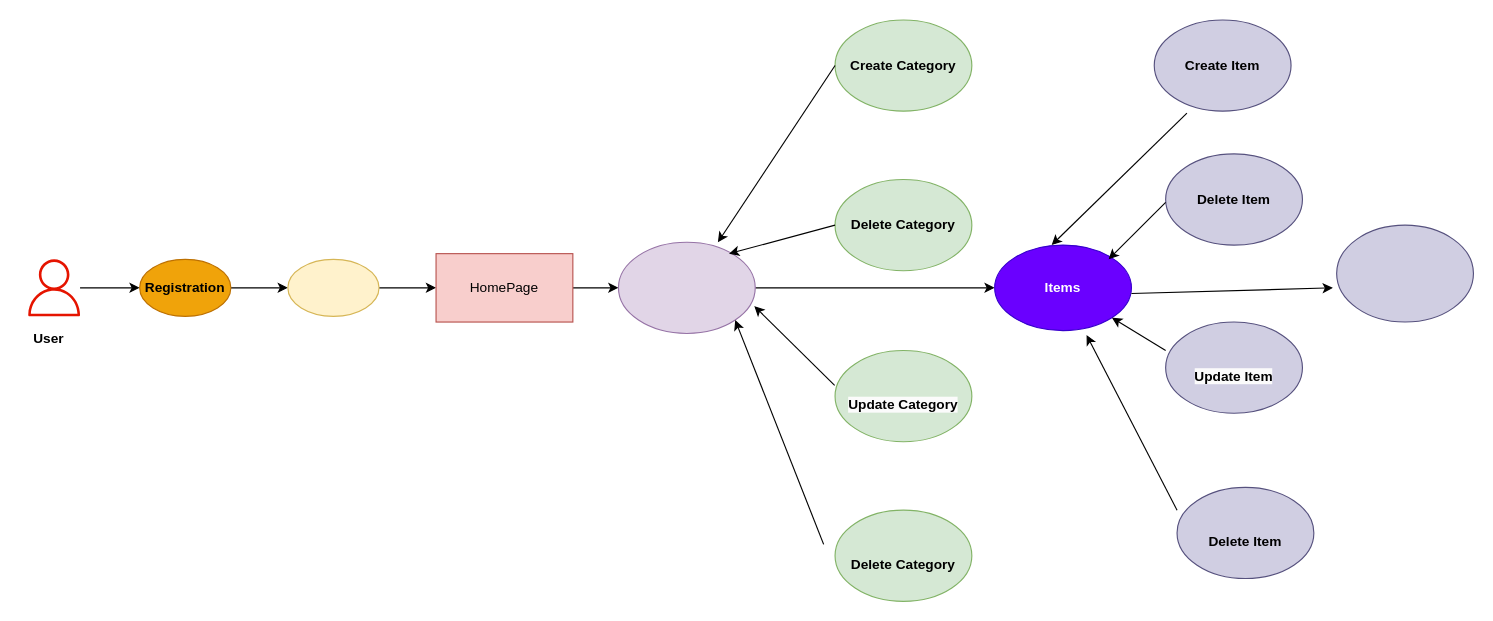
Some shapes in this 1493 by 621 pixel diagram are drawn without their labels. The shapes that lost their labels are listed below. From the top down, each one's box as (x1, y1, x2, y2) in pixels, then its label:
(287, 258, 379, 316): Login
(617, 241, 755, 333): Category
(1336, 224, 1473, 322): Logout
